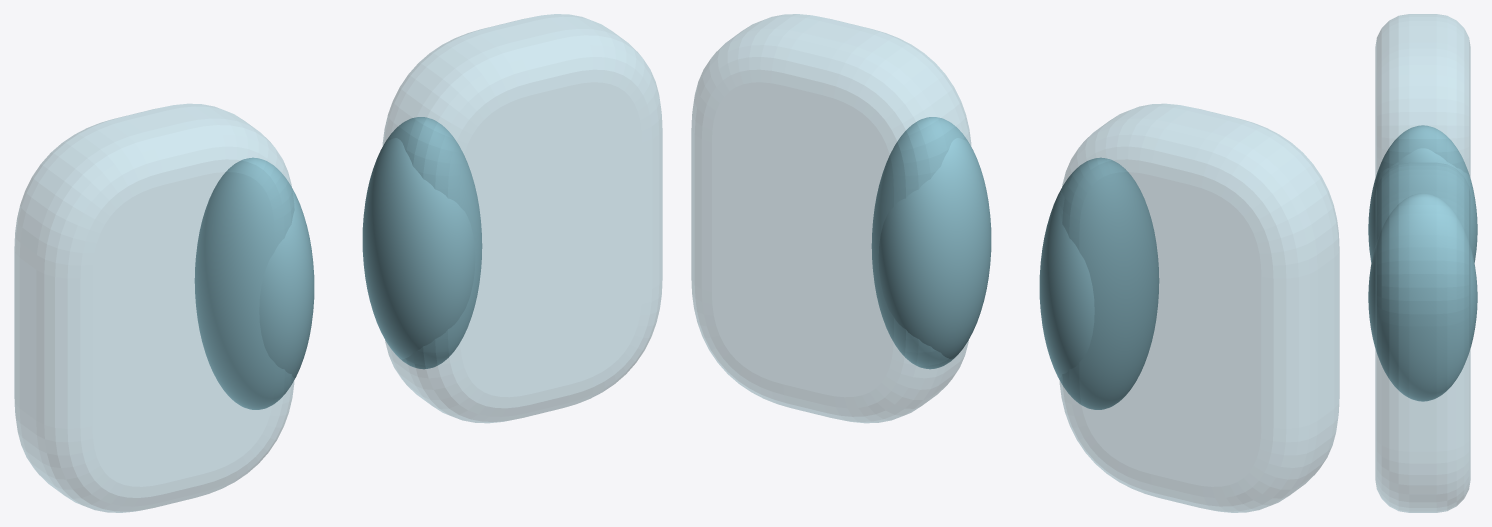
The picture shows the model from 3 angles, left to right: view 1: azimuth 30°, elevation 25°; view 2: azimuth 150°, elevation 25°; view 3: azimuth 270°, elevation 25°; orthographic projection. The views are drawn at different scales.
Visible parts, largest first — view 1: magnetic-face-0, magnetic-face-1, magnetic-pole-1, magnetic-pole-0; view 2: magnetic-face-0, magnetic-face-1, magnetic-pole-1, magnetic-pole-0; view 3: magnetic-face-1, magnetic-pole-1, magnetic-face-0, magnetic-pole-0.
Boxes of the visible parts, x1,y1,x2,y2 form: magnetic-face-0: (14, 104, 294, 512); magnetic-face-1: (383, 14, 662, 422); magnetic-pole-1: (362, 117, 482, 369); magnetic-pole-0: (194, 157, 314, 409); magnetic-face-0: (1059, 104, 1339, 512); magnetic-face-1: (691, 14, 970, 422); magnetic-pole-1: (871, 117, 991, 369); magnetic-pole-0: (1039, 157, 1159, 409); magnetic-face-1: (1375, 163, 1470, 512); magnetic-pole-1: (1368, 193, 1477, 401); magnetic-face-0: (1375, 14, 1470, 177); magnetic-pole-0: (1368, 125, 1477, 262).
Size of the model in its own units: 1.74 by 1 by 0.32.
